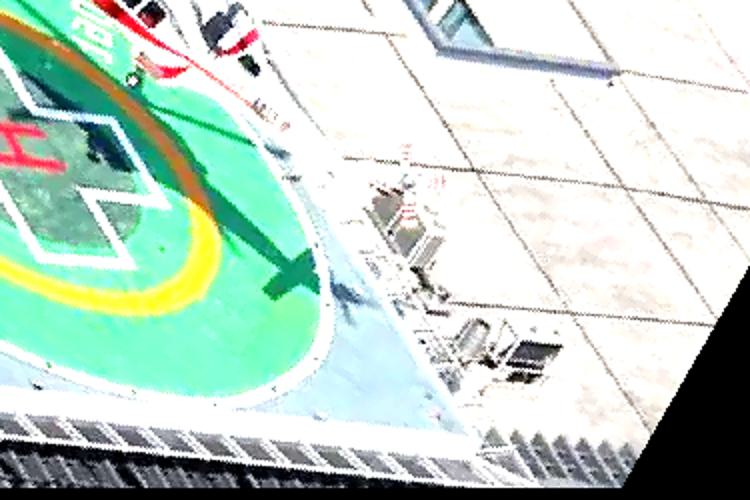Apron: (1, 11, 227, 321)
